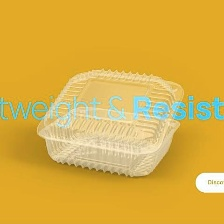plastic_box: (31, 62, 189, 183)
